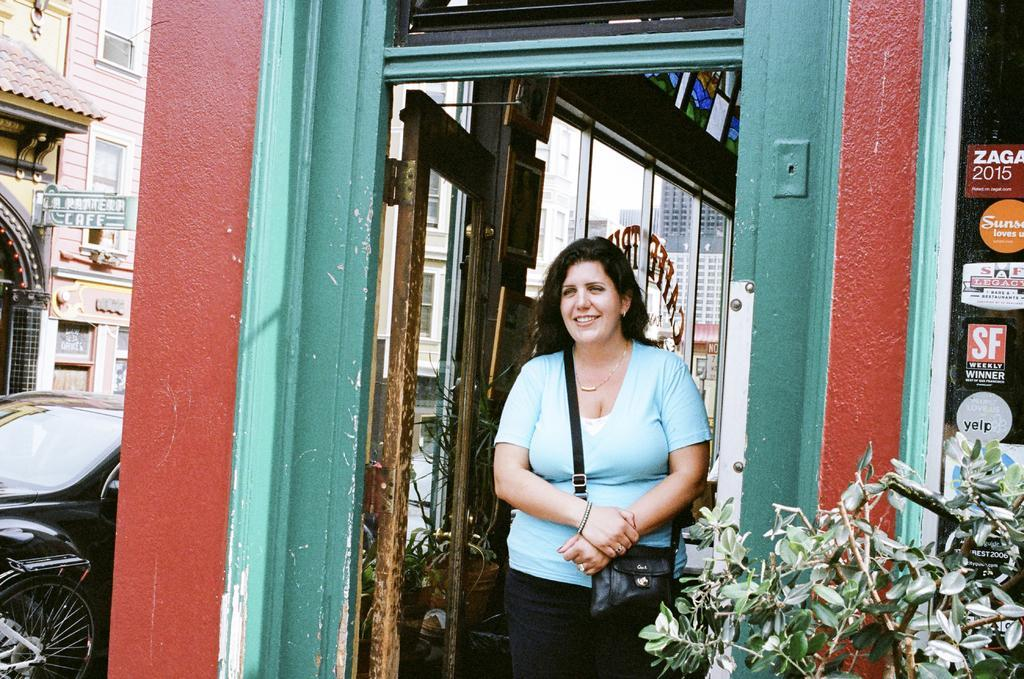door: (408, 120, 490, 679)
